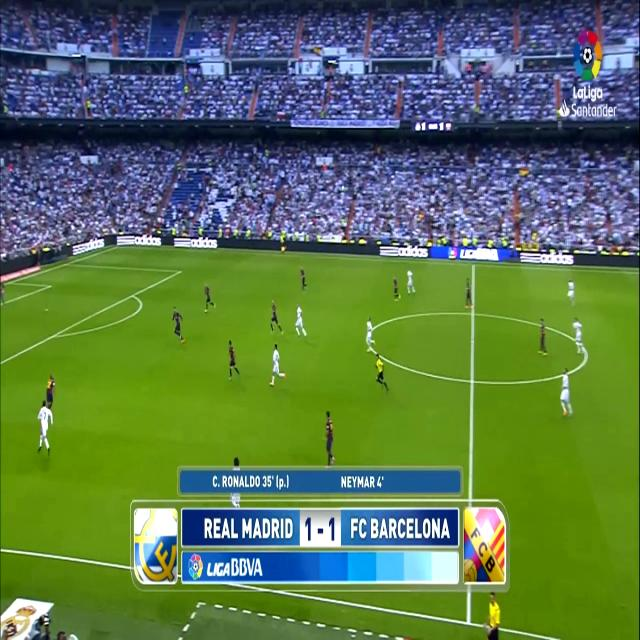bigarea_bottom_outter: (130, 288, 136, 302)
halfcircle_bottom: (466, 364, 478, 396)
midline_bottom_intersection: (463, 481, 477, 503)
midline_top_intersection: (470, 258, 478, 272)
